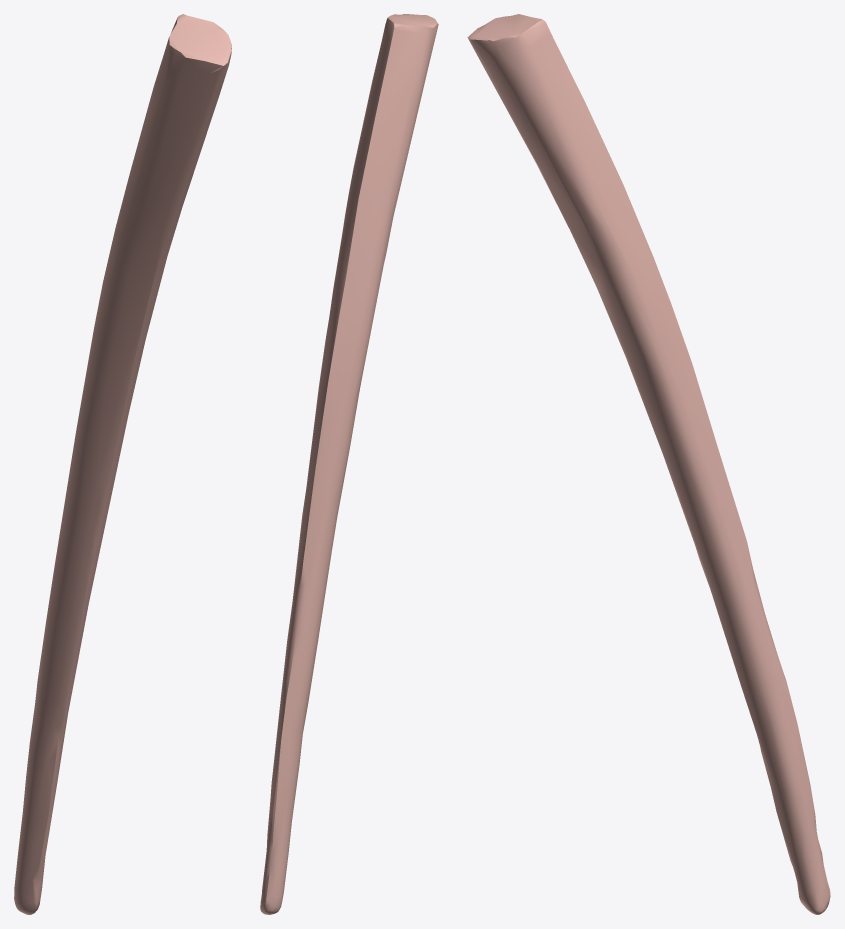
File: nervous_central.neck.glb
3 views of the same model, side by side, from view 1: azimuth 30°, elevation 25°; view 2: azimuth 150°, elevation 25°; view 3: azimuth 270°, elevation 25° (orthographic). The views are drawn at different scales.
Visible parts, largest first — view 1: central_canal_of_spinal_cord; view 2: central_canal_of_spinal_cord; view 3: central_canal_of_spinal_cord.
Boxes of the visible parts, x1,y1,x2,y2 form: central_canal_of_spinal_cord: [14, 14, 231, 914]; central_canal_of_spinal_cord: [260, 14, 438, 914]; central_canal_of_spinal_cord: [467, 14, 830, 914].
Size of the model in its own units: 0.00222 by 0.0356 by 0.0131.
